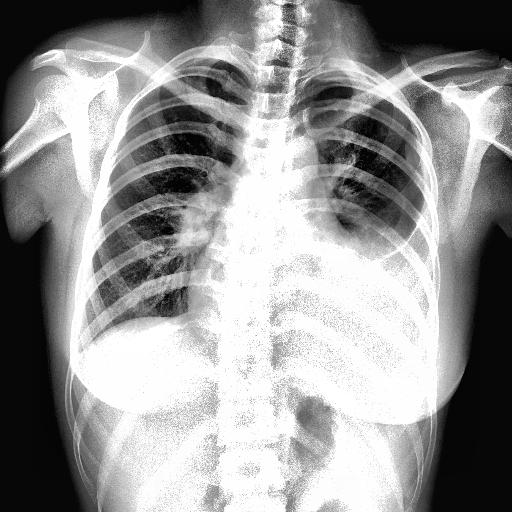0- Aortic enlargement: (266, 132, 318, 185)
10- Pleural effusion: (273, 185, 433, 348), (325, 184, 438, 385), (328, 198, 434, 380)
11- Pleural thickening: (314, 70, 372, 90)
7- Lung Opacity: (355, 208, 430, 291)
